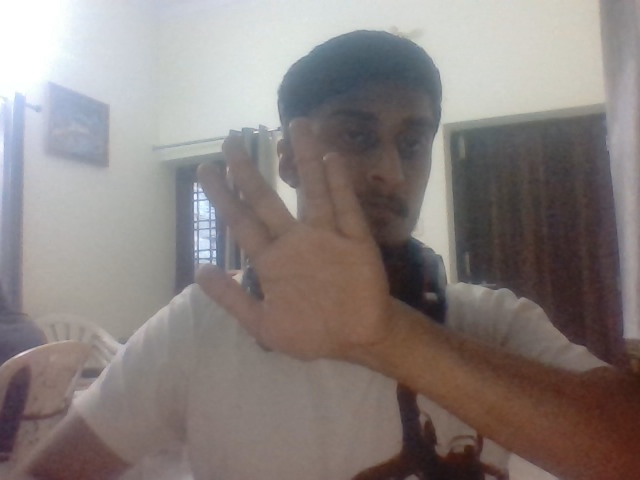LiveLong: (197, 117, 389, 362)
